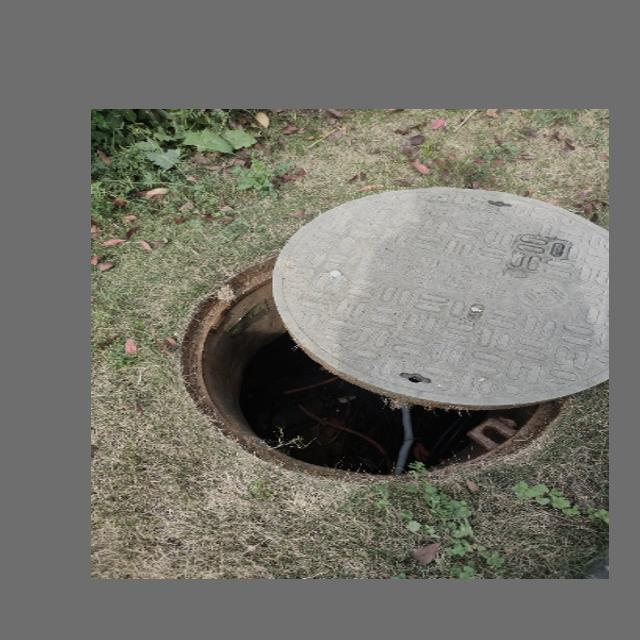uncovered: (178, 184, 609, 482)
